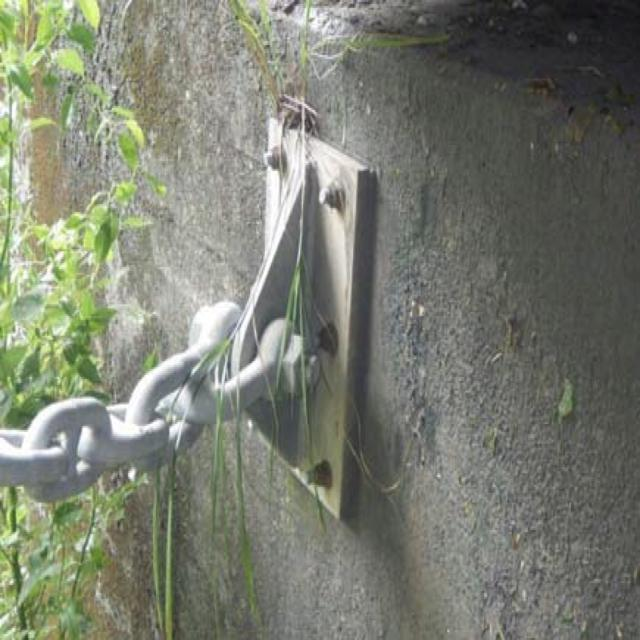corrosion: (300, 306, 343, 506)
